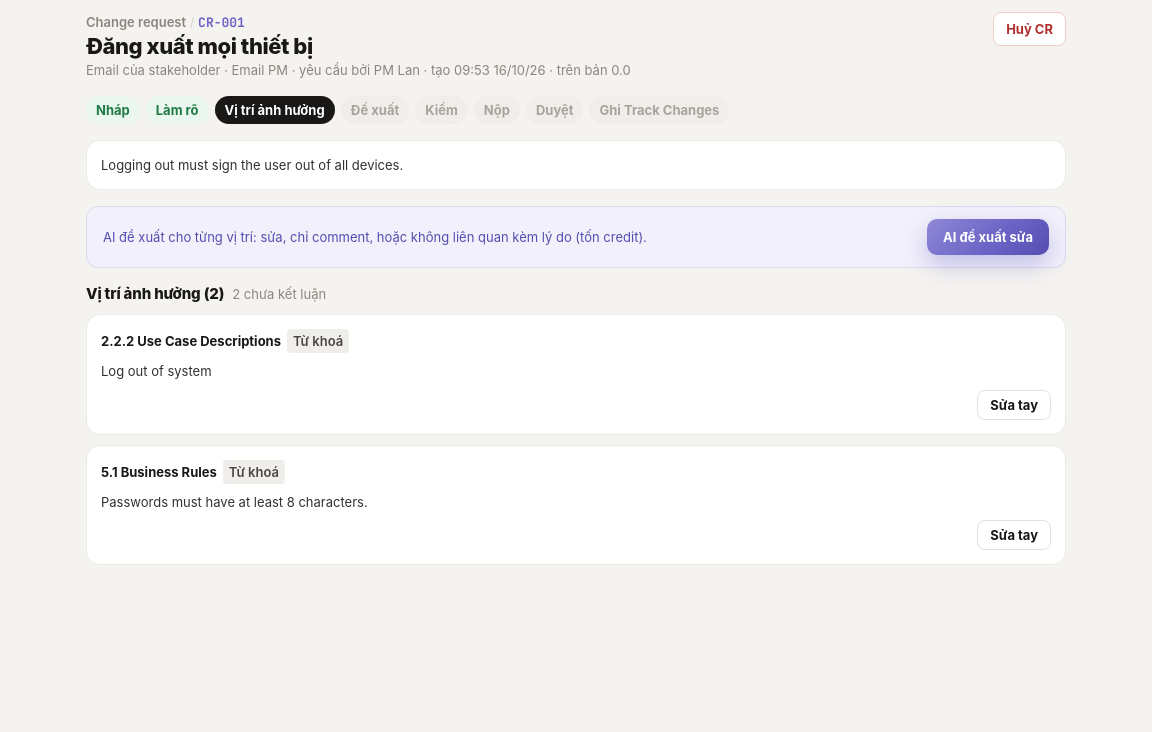
Scenario: CrWorkspace — luồng 3.1–3.14 trên mock › hết credit lúc đề xuất ⇒ banner paused, nạp xong tiếp tục
Step 1. Click the button "AI đề xuất sửa" → (988, 237), box [927, 219, 1049, 255]
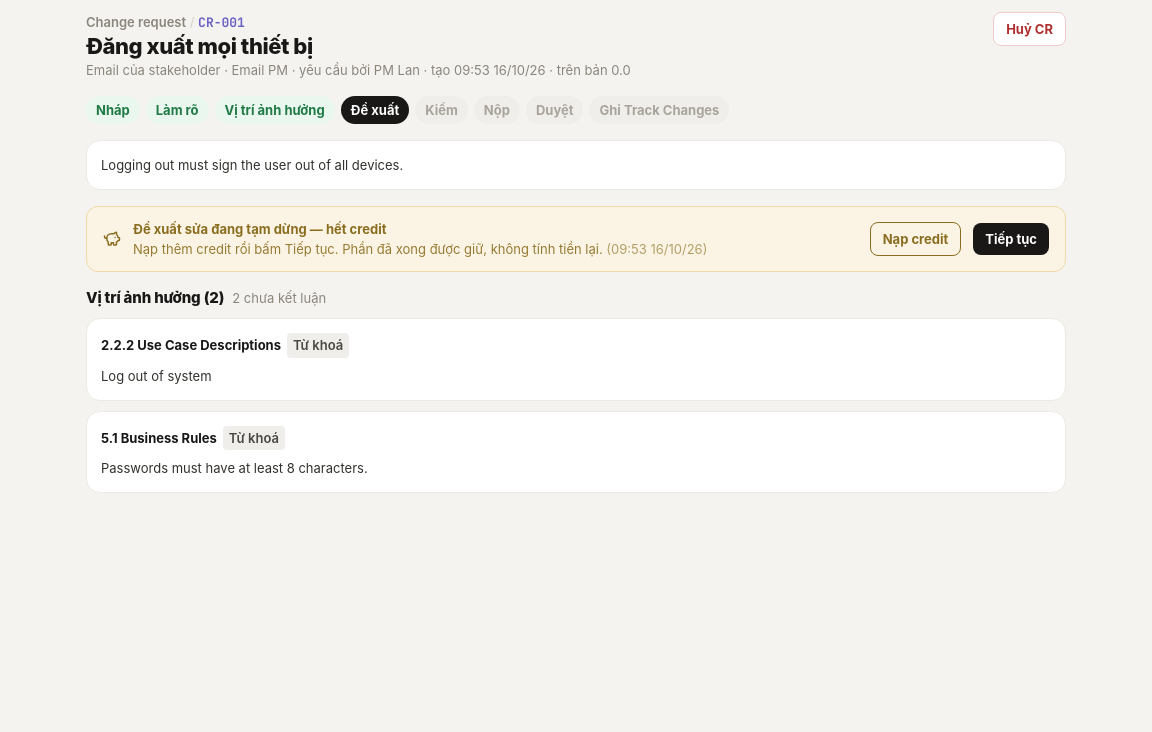
Expected: the text "Đề xuất sửa đang tạm dừng — hết credit" is shown, [133, 221, 386, 237]
Step 2. Click the button "Tiếp tục" → (1011, 239), box [973, 223, 1049, 255]
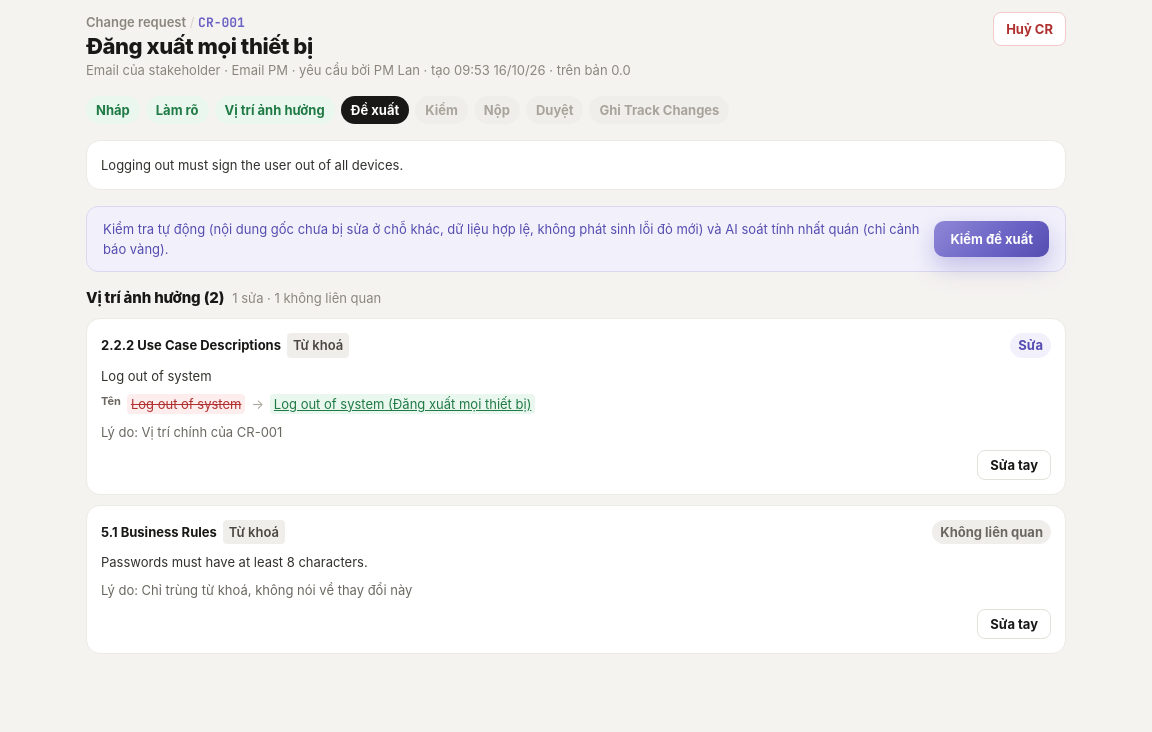
Expected: the button "Kiểm đề xuất" is shown, [934, 221, 1049, 257]
